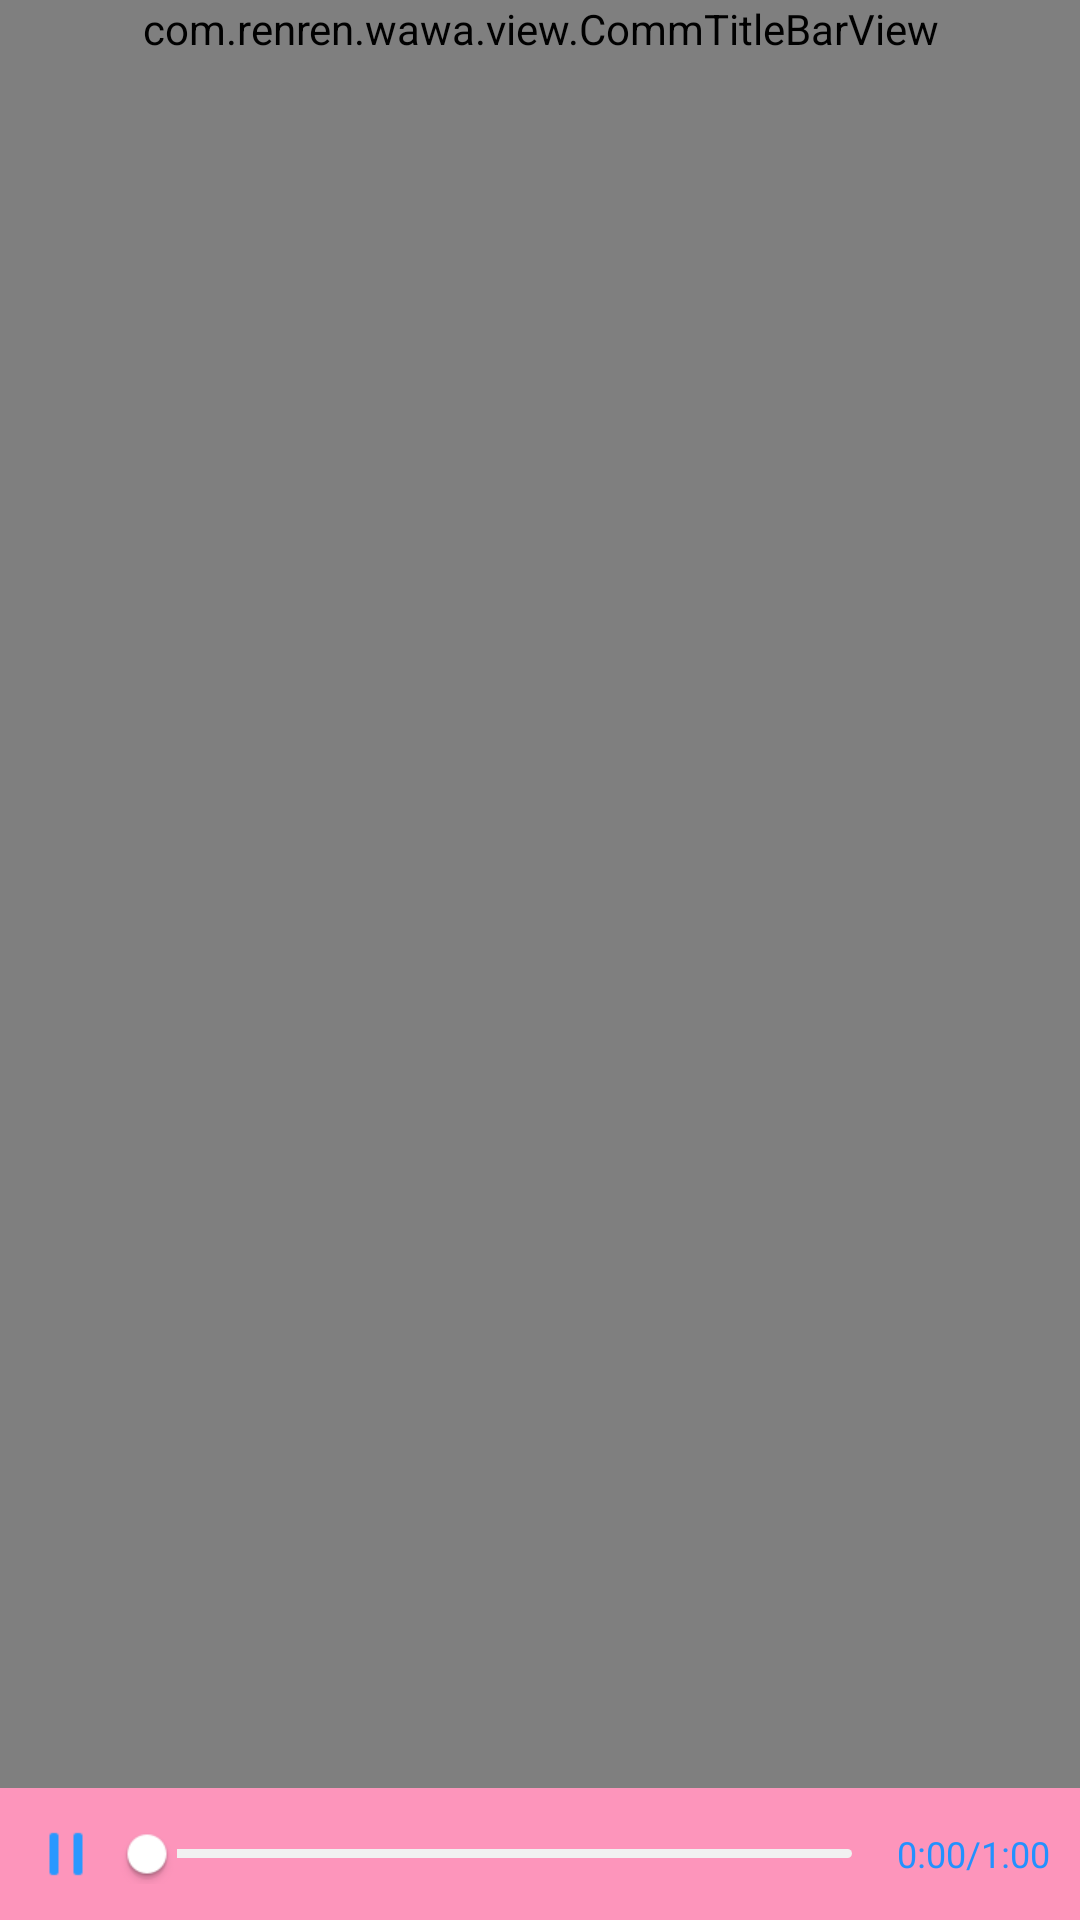

Icons on this 1080×1920 Android screen, each with its box as (x1=x1, y1=y1, x2=x2, y2=y2):
guwen audio video play: (x1=49, y1=1832, x2=83, y2=1876)
